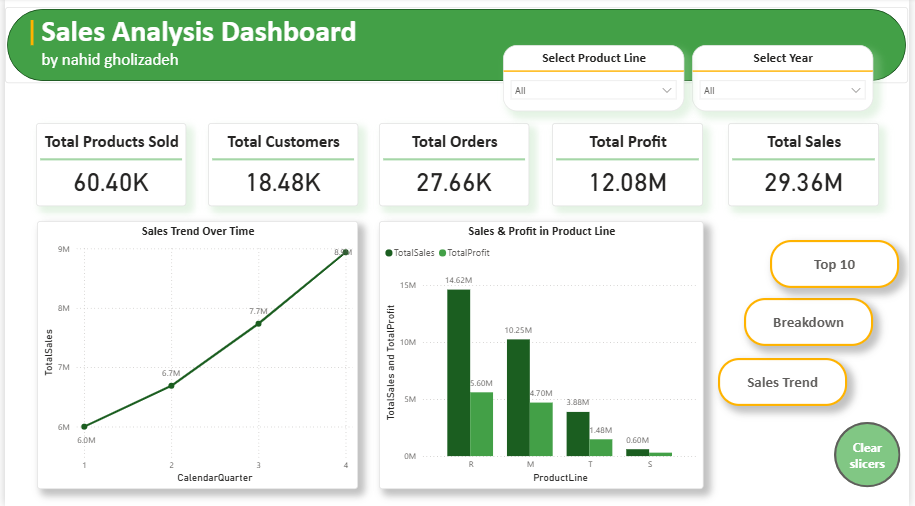

What the dashboard file says about the page in this screenshot:
{"tool":"powerbi","page":{"name":"Main","canvas":[1280,720],"ordinal":0},"visuals":[{"type":"actionButton","box":[1175.6,601.3,94.3,92.6],"z":500},{"type":"actionButton","box":[1010.7,510.4,183.1,68.5],"z":1000},{"type":"actionButton","box":[1047.9,425.5,183.1,68.5],"z":2000},{"type":"actionButton","box":[1083.7,343.7,183.1,68.5],"z":3000},{"type":"card","title":"Total Sales","fields":{"Values":["All-Measures.TotalSales"]},"box":[1024.7,177.2,214,117.6],"z":4000},{"type":"card","title":"Total Profit","fields":{"Values":["All-Measures.TotalProfit"]},"box":[775.3,177.2,214,117.6],"z":5000},{"type":"card","title":"Total Orders","fields":{"Values":["All-Measures.TotalOrders"]},"box":[530.1,177.2,212.6,117.6],"z":6000},{"type":"card","title":"Total Customers","fields":{"Values":["All-Measures.TotalCustomers"]},"box":[287.7,177.2,212.6,117.6],"z":7000},{"type":"card","title":"Total Products Sold","fields":{"Values":["All-Measures.TotalProductsSold"]},"box":[43.9,177.2,212.6,117.6],"z":8000},{"type":"shape","box":[0,12.8,1279.8,107.7],"z":9000},{"type":"textbox","box":[47,16,540.3,119.1],"z":10000},{"type":"slicer","title":"Select Year","fields":{"Values":["DimDate.CalendarYear","DimDate.EnglishMonthName"]},"box":[973.7,66.6,256.5,93.5],"z":11000},{"type":"lineChart","title":"Sales Trend Over Time","fields":{"Y":["Table.TotalSales"],"Category":["DimDate.Date Hierarchy.DayNumberOfMonth","DimDate.Date Hierarchy.MonthNumberOfYear","DimDate.Date Hierarchy.CalendarQuarter","DimDate.Date Hierarchy.CalendarYear"]},"box":[44.7,315.5,455.4,379.5],"z":12000},{"type":"slicer","title":"Select Product Line","fields":{"Values":["DimProduct.ProductLine"]},"box":[705.8,66.6,256.5,93.5],"z":13000},{"type":"clusteredColumnChart","title":"Sales & Profit in Product Line","fields":{"Category":["DimProduct.ProductLine"],"Y":["All-Measures.TotalSales","All-Measures.TotalProfit"]},"box":[529.9,315.5,459.9,379.5],"z":14000},{"type":"shape","box":[20.8,31.3,34.2,35.7],"z":15000}]}

Visuals, with their boxes in screenshot pixels (x1, y1, x2, y2), scaled from the page's 1280x720 canvas onto the 915x506 screenshot:
actionButton: bbox(840, 423, 908, 488)
actionButton: bbox(722, 359, 853, 407)
actionButton: bbox(749, 299, 880, 347)
actionButton: bbox(775, 242, 906, 290)
"Total Sales" card: bbox(733, 125, 885, 207)
"Total Profit" card: bbox(554, 125, 707, 207)
"Total Orders" card: bbox(379, 125, 531, 207)
"Total Customers" card: bbox(206, 125, 358, 207)
"Total Products Sold" card: bbox(31, 125, 183, 207)
shape: bbox(0, 9, 914, 85)
textbox: bbox(34, 11, 420, 95)
"Select Year" slicer: bbox(696, 47, 879, 113)
"Sales Trend Over Time" lineChart: bbox(32, 222, 357, 488)
"Select Product Line" slicer: bbox(505, 47, 688, 113)
"Sales & Profit in Product Line" clusteredColumnChart: bbox(379, 222, 708, 488)
shape: bbox(15, 22, 39, 47)
